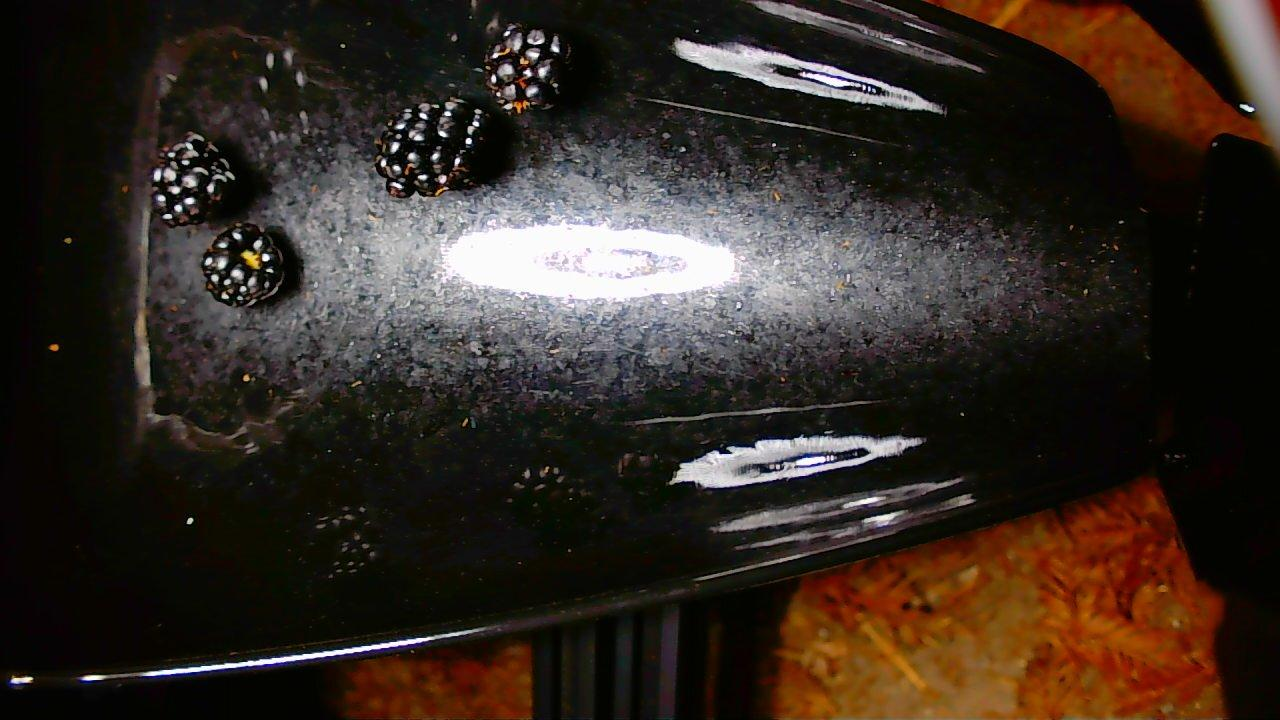berry: (374, 97, 498, 197), (151, 132, 236, 226), (485, 24, 571, 113), (201, 224, 284, 306)
